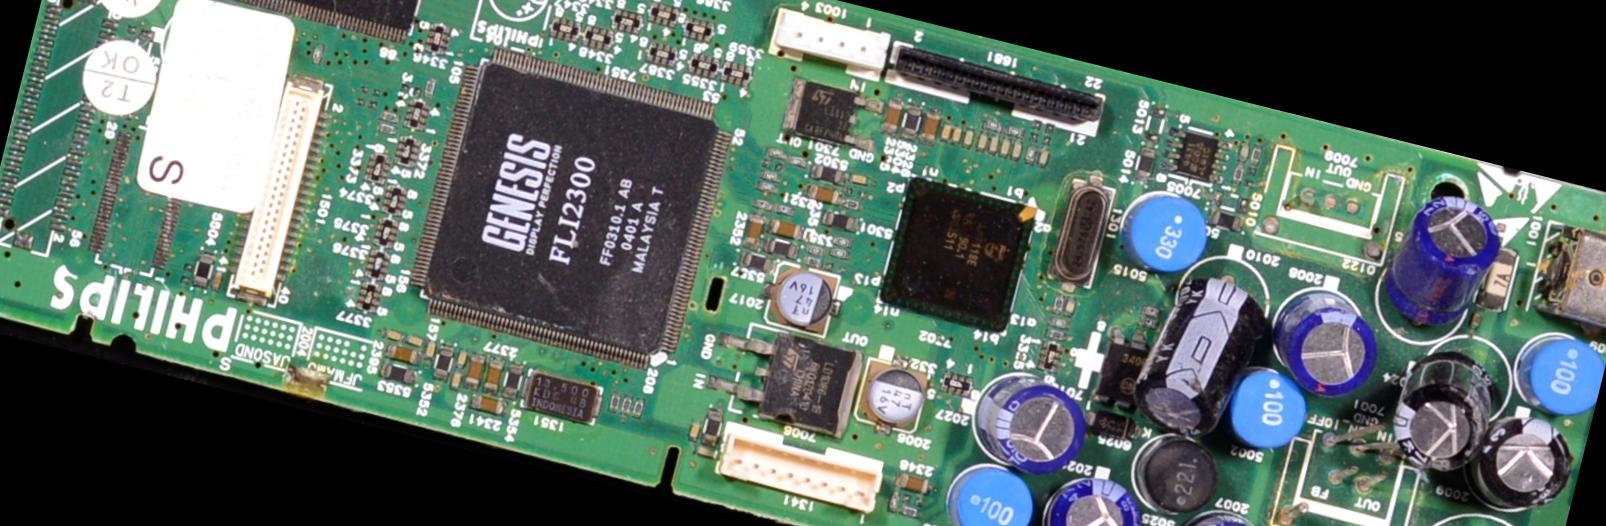Capacitor Jumper: (803, 182, 844, 206), (382, 343, 423, 366), (468, 393, 507, 417), (741, 215, 766, 250), (767, 217, 803, 242), (896, 470, 931, 494), (464, 352, 487, 389), (879, 102, 903, 135), (483, 357, 504, 395), (918, 114, 940, 143), (694, 442, 718, 459), (846, 171, 870, 187), (1009, 139, 1024, 162), (1238, 140, 1252, 166), (1036, 147, 1051, 169), (449, 369, 463, 391), (381, 328, 401, 343), (423, 339, 437, 359), (999, 137, 1012, 159), (687, 419, 701, 440), (1064, 296, 1076, 317), (406, 334, 424, 348), (987, 134, 1000, 155), (975, 132, 988, 150), (940, 123, 953, 142), (950, 124, 962, 144), (457, 348, 468, 368), (963, 129, 975, 146)
Connector: (886, 41, 1107, 133), (234, 79, 324, 298), (719, 419, 882, 512), (1525, 218, 1605, 334), (769, 8, 892, 82)
IC: (406, 40, 736, 378), (876, 172, 1038, 340), (217, 0, 438, 45), (1155, 122, 1234, 186)
Resistor Jumper: (374, 121, 398, 136), (1004, 124, 1026, 140), (310, 43, 326, 67), (378, 109, 401, 125), (1051, 293, 1066, 316), (1022, 144, 1038, 167), (766, 145, 789, 161), (828, 246, 850, 261), (1047, 316, 1070, 331), (1044, 327, 1067, 342), (832, 234, 853, 250), (760, 168, 783, 182), (840, 196, 862, 211), (771, 203, 794, 217), (801, 255, 823, 269), (752, 196, 772, 212), (1135, 316, 1158, 330), (787, 155, 808, 169), (982, 119, 1003, 133), (806, 243, 827, 257), (423, 77, 436, 98), (757, 181, 776, 194), (1141, 305, 1160, 318)
Transistor: (700, 317, 869, 443)
